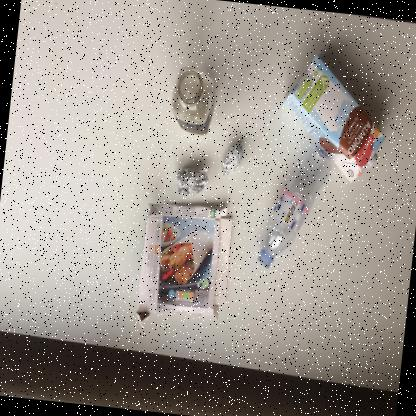Aluminium foil: (175, 168, 208, 196), (222, 140, 243, 175)
Clear plastic bottle: (257, 142, 334, 269), (171, 67, 214, 136)
Drink carton: (283, 53, 386, 183)
Other carton: (135, 203, 232, 328)
